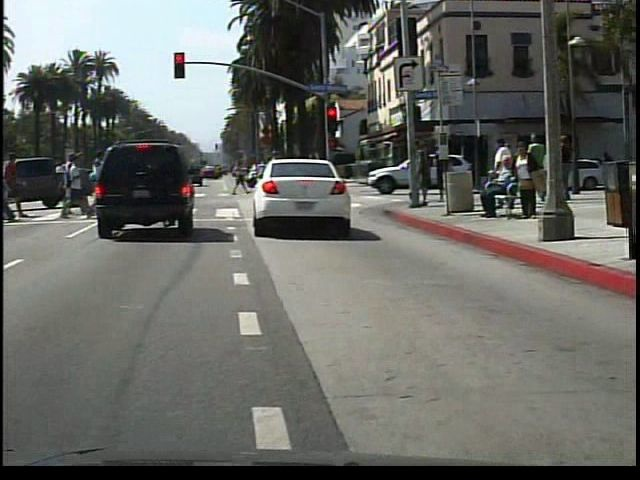person: (516, 139, 551, 224), (481, 155, 523, 216), (251, 145, 285, 215)
